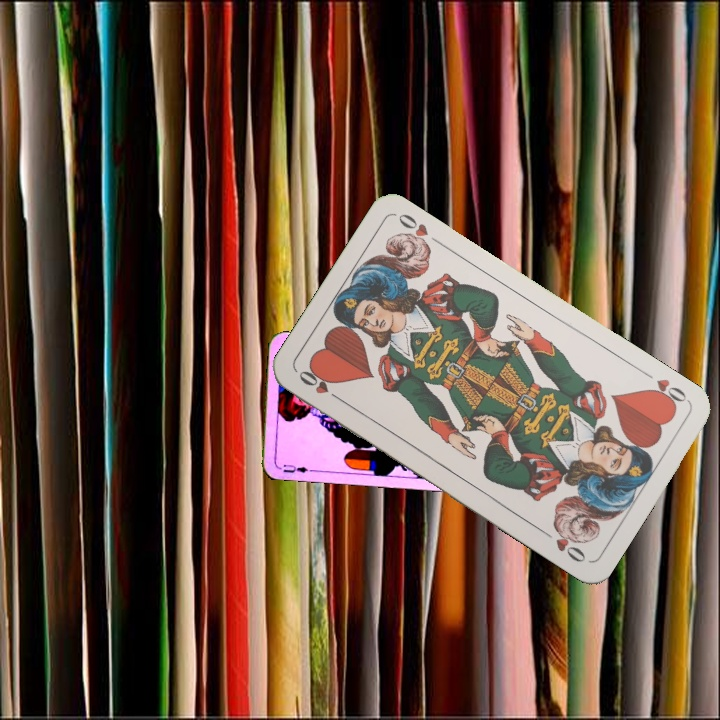EU: (279, 460, 310, 476)
HO: (294, 366, 346, 405), (642, 374, 691, 411)
